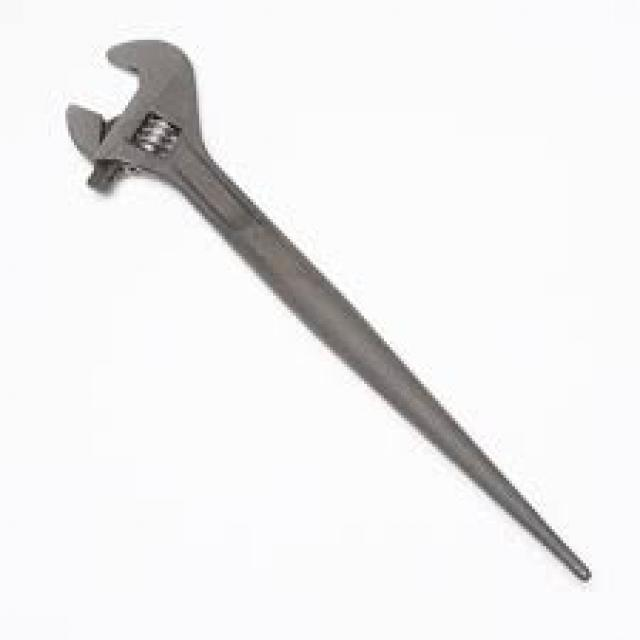wrench: (55, 34, 603, 592)
